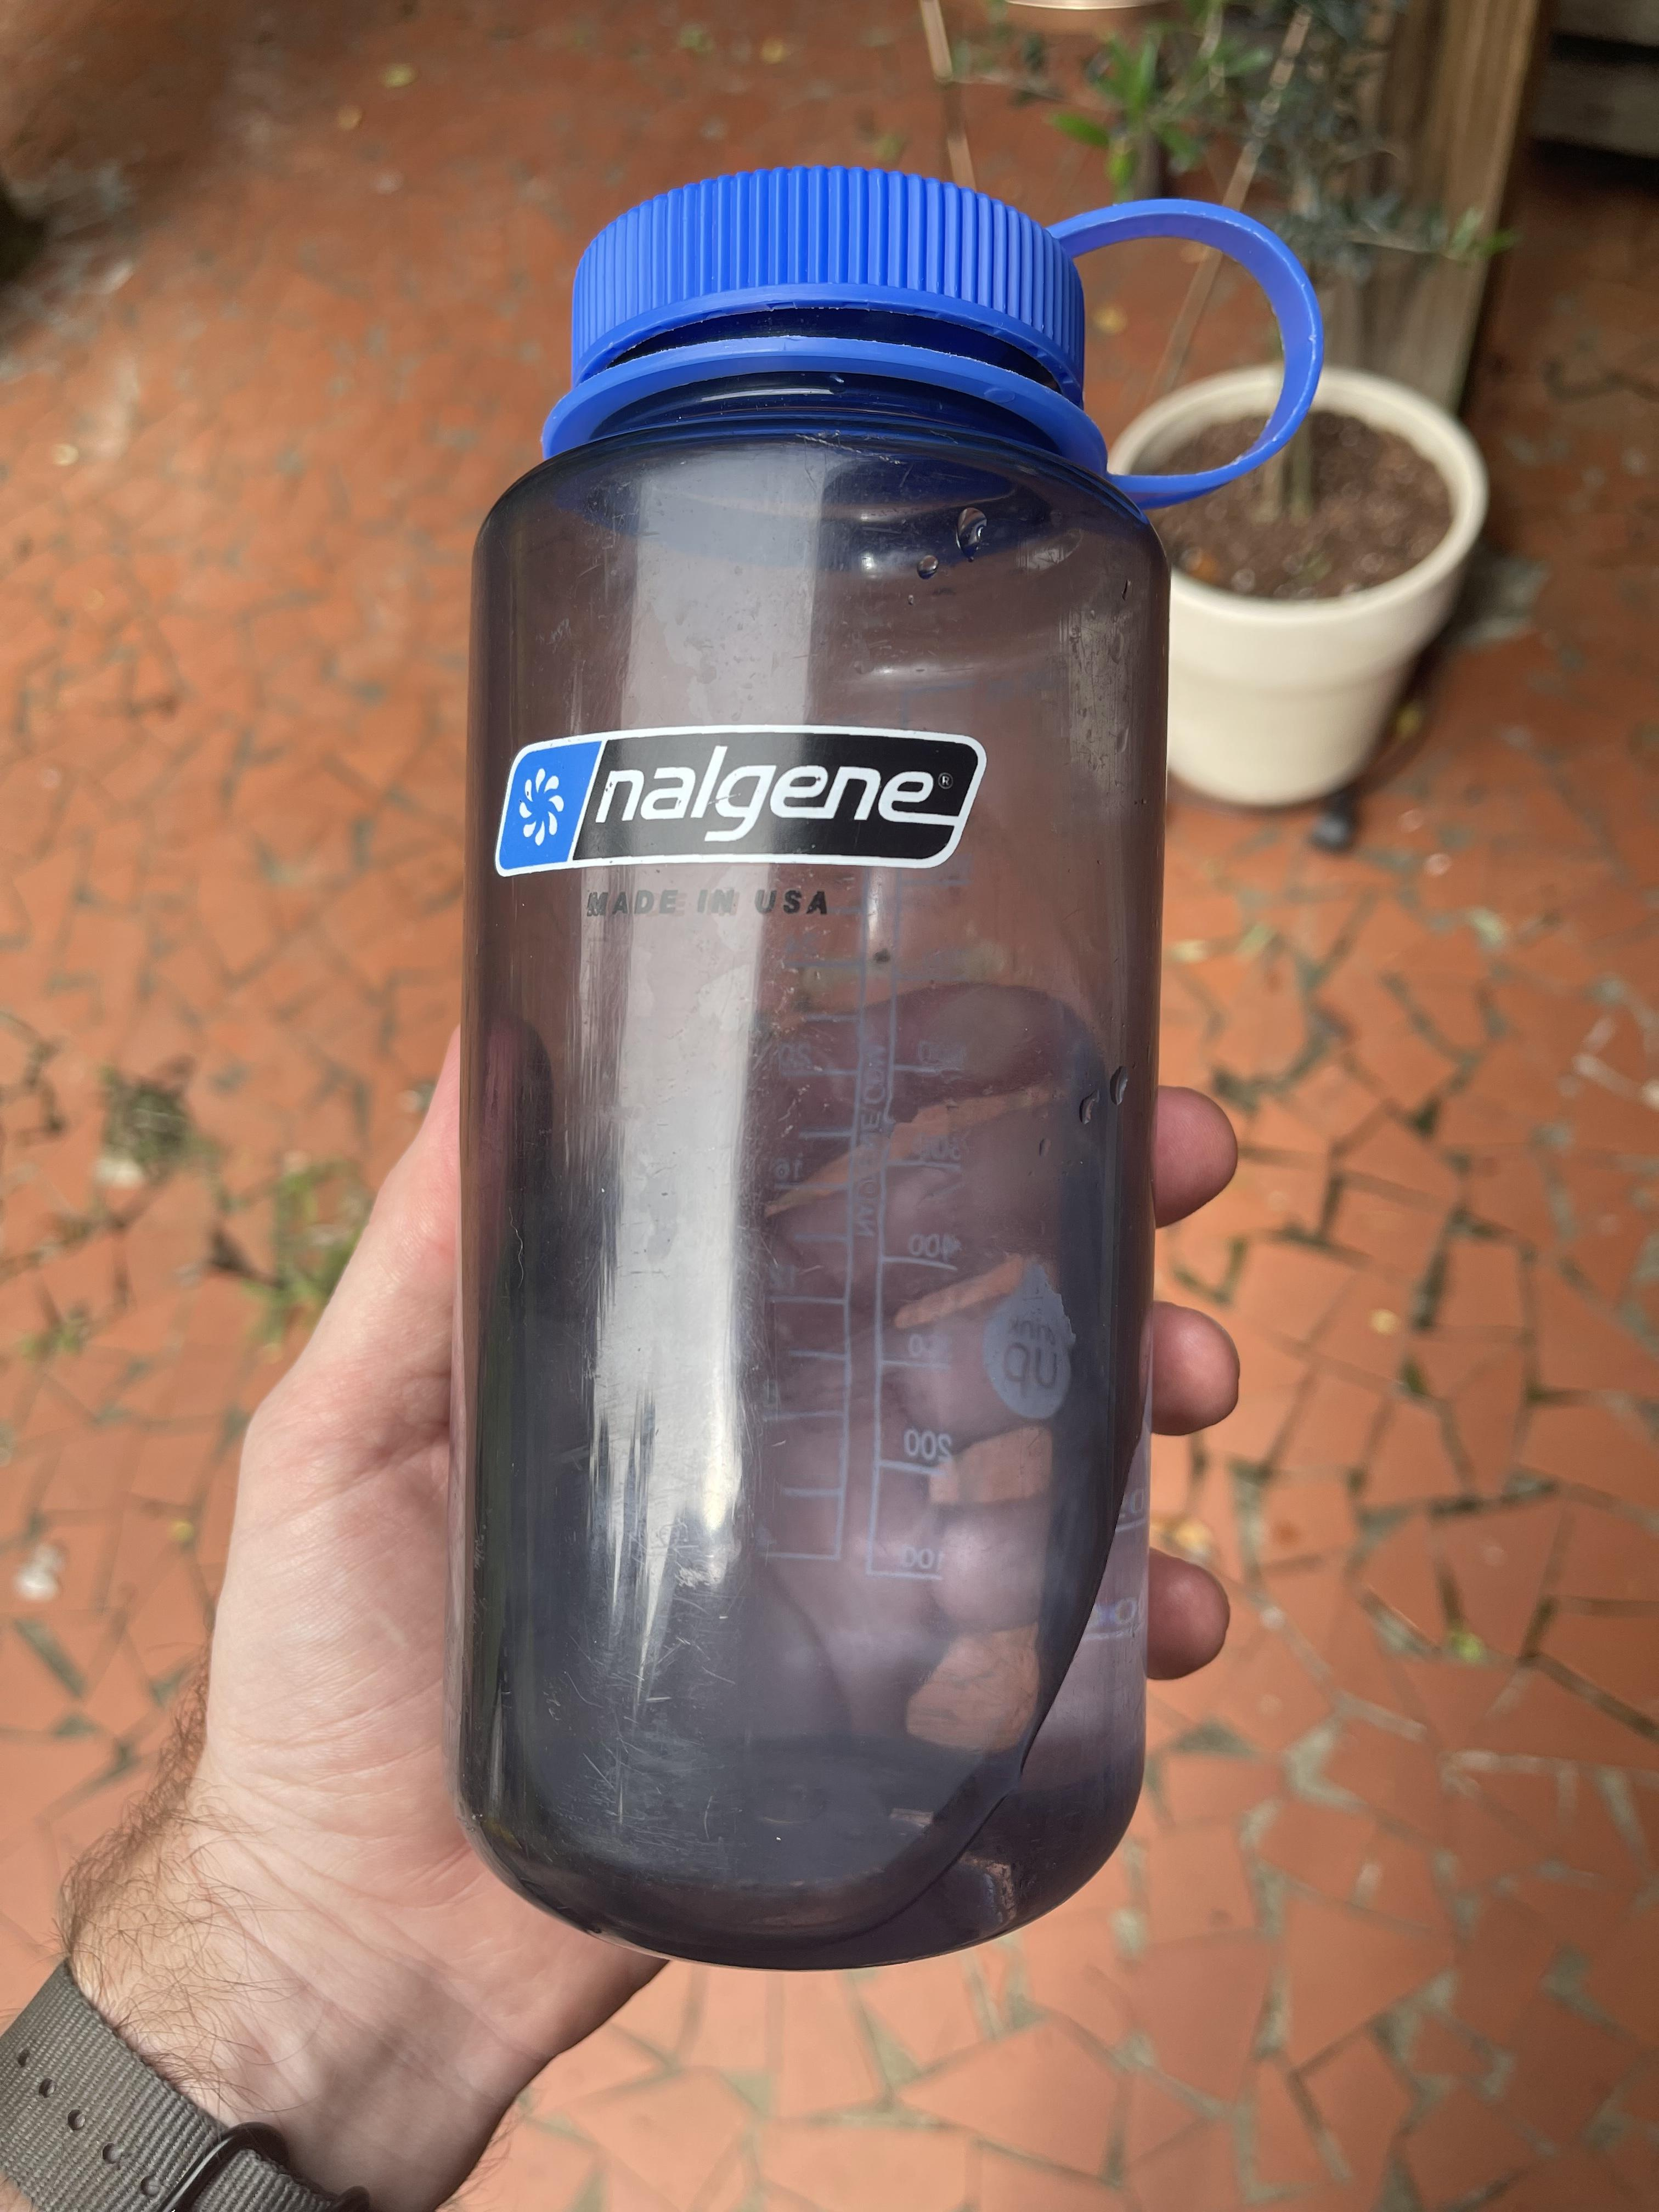bottle: (444, 165, 1333, 1973)
